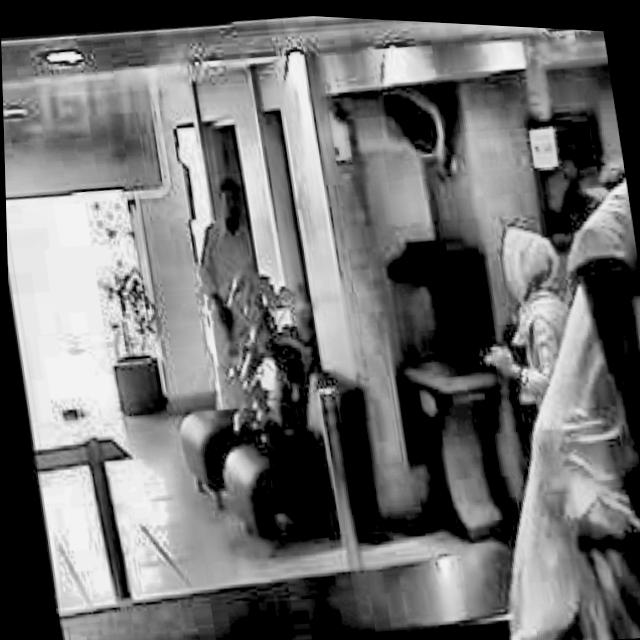robbery: (180, 170, 278, 417)
